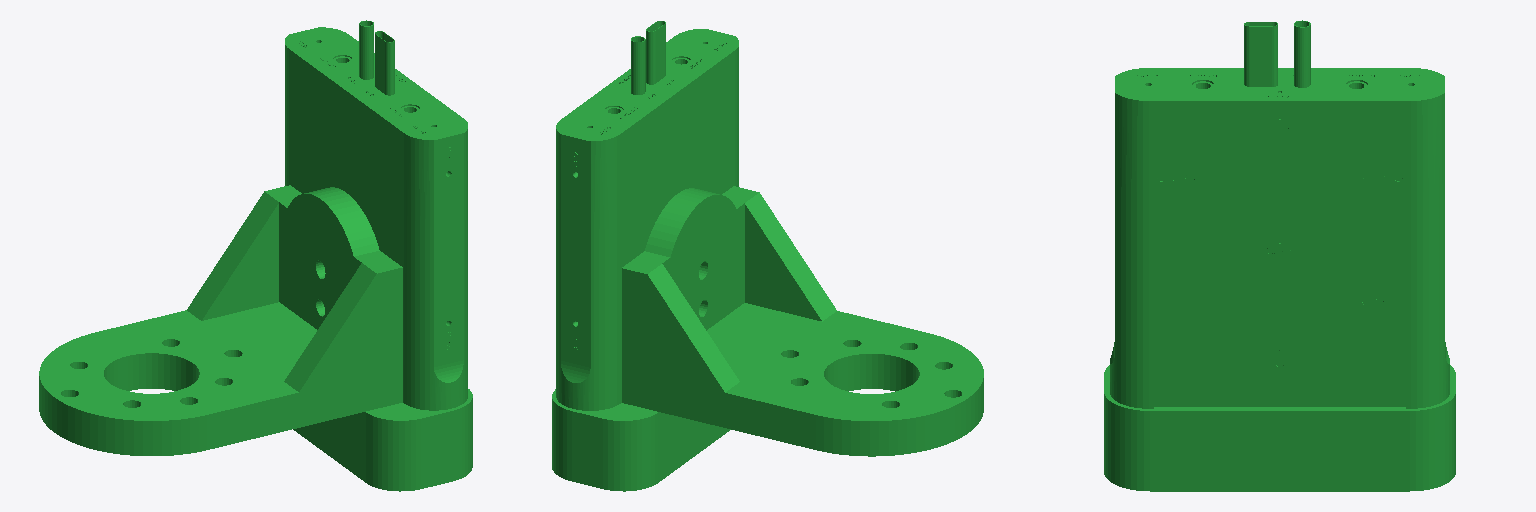
URDF robot description (xarm6):
<?xml version="1.0" encoding="utf-8"?>
<!-- =================================================================================== -->
<!-- |    This document was autogenerated by xacro from xarm6_robot.urdf.xacro         | -->
<!-- |    EDITING THIS FILE BY HAND IS NOT RECOMMENDED                                 | -->
<!-- =================================================================================== -->
<robot name="xarm6">
  <!--
  Author: [author] <[email redacted]>
  Contributers:
-->
  <gazebo>
    <plugin filename="libgazebo_ros_control.so" name="gazebo_ros_control">
      <robotNamespace>/xarm</robotNamespace>
      <!-- <controlPeriod>0.0001</controlPeriod> -->
      <robotSimType>gazebo_ros_control/DefaultRobotHWSim</robotSimType>
      <legacyModeNS>true</legacyModeNS>
      <!-- <preserveWorldVelocity>true</preserveWorldVelocity> -->
    </plugin>
  </gazebo>
  <link name="world"/>
  <joint name="world_joint" type="fixed">
    <parent link="world"/>
    <child link="link_base"/>
    <origin rpy="0 0 0" xyz="0 0 0"/>
  </joint>
  <material name="Black">
    <color rgba="0.0 0.0 0.0 1.0"/>
  </material>
  <material name="Red">
    <color rgba="0.85 0.19  0.21 1.0"/>
  </material>
  <material name="Blue">
    <color rgba="0.28 0.52 0.92 1.0"/>
  </material>
  <material name="Green">
    <color rgba="0.23 0.72 0.32 1.0"/>
  </material>
  <material name="Yellow">
    <color rgba="0.95 0.76 0.05 1.0"/>
  </material>
  <material name="White">
    <color rgba="1.0 1.0 1.0 1.0"/>
  </material>
  <material name="Silver">
    <color rgba="0.753 0.753 0.753 1.0"/>
  </material>
  <link name="link_base">
    <visual>
      <geometry>
        <mesh filename="package://xarm_description/meshes/xarm6/visual/base.stl"/>
      </geometry>
      <origin rpy="0 0 0" xyz="0 0 0"/>
      <material name="White"/>
    </visual>
    <collision>
      <geometry>
        <mesh filename="package://xarm_description/meshes/xarm6/collision/base_vhacd.obj"/>
      </geometry>
      <origin rpy="0 0 0" xyz="0 0 0"/>
    </collision>
    <inertial>
      <origin rpy="0 0 0" xyz="0.0 0.0 0.09103"/>
      <mass value="2.7"/>
      <inertia ixx="0.00494875" ixy="-3.5E-06" ixz="1.25E-05" iyy="0.00494174" iyz="1.67E-06" izz="0.002219"/>
    </inertial>
  </link>
  <link name="link1">
    <visual>
      <geometry>
        <mesh filename="package://xarm_description/meshes/xarm6/visual/link1.stl"/>
      </geometry>
      <origin rpy="0 0 0" xyz="0 0 0"/>
      <material name="White"/>
    </visual>
    <collision>
      <geometry>
        <mesh filename="package://xarm_description/meshes/xarm6/collision/link1_vhacd.obj"/>
      </geometry>
      <origin rpy="0 0 0" xyz="0 0 0"/>
    </collision>
    <inertial>
      <origin rpy="0 0 0" xyz="-0.002 0.02692 -0.01332"/>
      <mass value="2.16"/>
      <inertia ixx="0.00539427" ixy="1.095E-05" ixz="1.635E-06" iyy="0.0048979" iyz="0.000793" izz="0.00311573"/>
    </inertial>
  </link>
  <joint name="joint1" type="revolute">
    <parent link="link_base"/>
    <child link="link1"/>
    <origin rpy="0 0 0" xyz="0 0 0.267"/>
    <axis xyz="0 0 1"/>
    <limit effort="50.0" lower="-6.28318530718" upper="6.28318530718" velocity="3.14"/>
    <dynamics damping="1.0" friction="1.0"/>
  </joint>
  <link name="link2">
    <visual>
      <geometry>
        <mesh filename="package://xarm_description/meshes/xarm6/visual/link2.stl"/>
      </geometry>
      <origin rpy="0 0 0" xyz="0 0 0"/>
      <material name="White"/>
    </visual>
    <collision>
      <geometry>
        <mesh filename="package://xarm_description/meshes/xarm6/collision/link2_vhacd.obj"/>
      </geometry>
      <origin rpy="0 0 0" xyz="0 0 0"/>
    </collision>
    <inertial>
      <origin rpy="0 0 0" xyz="0.03531 -0.21398 0.03386"/>
      <mass value="1.71"/>
      <inertia ixx="0.0248674" ixy="-0.00430651" ixz="-0.00067797" iyy="0.00485548" iyz="0.00457245" izz="0.02387827"/>
    </inertial>
  </link>
  <joint name="joint2" type="revolute">
    <parent link="link1"/>
    <child link="link2"/>
    <origin rpy="-1.5708 0 0" xyz="0 0 0"/>
    <axis xyz="0 0 1"/>
    <limit effort="50.0" lower="-2.059" upper="2.0944" velocity="3.14"/>
    <dynamics damping="1.0" friction="1.0"/>
  </joint>
  <link name="link3">
    <visual>
      <geometry>
        <mesh filename="package://xarm_description/meshes/xarm6/visual/link3.stl"/>
      </geometry>
      <origin rpy="0 0 0" xyz="0 0 0"/>
      <material name="White"/>
    </visual>
    <collision>
      <geometry>
        <mesh filename="package://xarm_description/meshes/xarm6/collision/link3_vhacd.obj"/>
      </geometry>
      <origin rpy="0 0 0" xyz="0 0 0"/>
    </collision>
    <inertial>
      <origin rpy="0 0 0" xyz="0.06781 0.10749 0.01457"/>
      <mass value="1.384"/>
      <inertia ixx="0.0053694" ixy="0.0014185" ixz="-0.00092094" iyy="0.0032423" iyz="-0.00169178" izz="0.00501731"/>
    </inertial>
  </link>
  <joint name="joint3" type="revolute">
    <parent link="link2"/>
    <child link="link3"/>
    <origin rpy="0 0 0" xyz="0.0535 -0.2845 0"/>
    <axis xyz="0 0 1"/>
    <limit effort="32.0" lower="-3.927" upper="0.19198" velocity="3.14"/>
    <dynamics damping="1.0" friction="1.0"/>
  </joint>
  <link name="link4">
    <visual>
      <geometry>
        <mesh filename="package://xarm_description/meshes/xarm6/visual/link4.stl"/>
      </geometry>
      <origin rpy="0 0 0" xyz="0 0 0"/>
      <material name="White"/>
    </visual>
    <collision>
      <geometry>
        <mesh filename="package://xarm_description/meshes/xarm6/collision/link4_vhacd.obj"/>
      </geometry>
      <origin rpy="0 0 0" xyz="0 0 0"/>
    </collision>
    <inertial>
      <origin rpy="0 0 0" xyz="-0.00021 0.02578 -0.02538"/>
      <mass value="1.115"/>
      <inertia ixx="0.00439263" ixy="5.028E-05" ixz="1.374E-05" iyy="0.0040077" iyz="0.00045338" izz="0.00110321"/>
    </inertial>
  </link>
  <joint name="joint4" type="revolute">
    <parent link="link3"/>
    <child link="link4"/>
    <origin rpy="-1.5708 0 0" xyz="0.0775 0.3425 0"/>
    <axis xyz="0 0 1"/>
    <limit effort="32.0" lower="-6.28318530718" upper="6.28318530718" velocity="3.14"/>
    <dynamics damping="1.0" friction="1.0"/>
  </joint>
  <link name="link5">
    <visual>
      <geometry>
        <mesh filename="package://xarm_description/meshes/xarm6/visual/link5.stl"/>
      </geometry>
      <origin rpy="0 0 0" xyz="0 0 0"/>
      <material name="White"/>
    </visual>
    <collision>
      <geometry>
        <mesh filename="package://xarm_description/meshes/xarm6/collision/link5_vhacd.obj"/>
      </geometry>
      <origin rpy="0 0 0" xyz="0 0 0"/>
    </collision>
    <inertial>
      <origin rpy="0 0 0" xyz="0.05428 0.01781 0.00543"/>
      <mass value="1.275"/>
      <inertia ixx="0.001202758" ixy="0.000492428" ixz="-0.00039147" iyy="0.0022876" iyz="-1.235E-04" izz="0.0026866"/>
    </inertial>
  </link>
  <joint name="joint5" type="revolute">
    <parent link="link4"/>
    <child link="link5"/>
    <origin rpy="1.5708 0 0" xyz="0 0 0"/>
    <axis xyz="0 0 1"/>
    <limit effort="32.0" lower="-1.69297" upper="3.14159265359" velocity="3.14"/>
    <dynamics damping="1.0" friction="1.0"/>
  </joint>
  <link name="link6">
    <visual>
      <geometry>
        <mesh filename="package://xarm_description/meshes/xarm6/visual/link6.stl"/>
      </geometry>
      <origin rpy="0 0 0" xyz="0 0 0"/>
      <material name="Silver"/>
    </visual>
    <collision>
      <geometry>
        <mesh filename="package://xarm_description/meshes/xarm6/collision/link6_vhacd.obj"/>
      </geometry>
      <origin rpy="0 0 0" xyz="0 0 0"/>
    </collision>
    <inertial>
      <origin rpy="0 0 0" xyz="0 0.00064 -0.00952"/>
      <mass value="0.1096"/>
      <inertia ixx="4.5293E-05" ixy="0" ixz="0" iyy="4.8111E-05" iyz="0" izz="7.9715E-05"/>
    </inertial>
  </link>
  <joint name="joint6" type="revolute">
    <parent link="link5"/>
    <child link="link6"/>
    <origin rpy="-1.5708 0 0" xyz="0.076 0.097 0"/>
    <axis xyz="0 0 1"/>
    <limit effort="20.0" lower="-6.28318530718" upper="6.28318530718" velocity="3.14"/>
    <dynamics damping="1.0" friction="1.0"/>
  </joint>
  <transmission name="tran1">
    <type>transmission_interface/SimpleTransmission</type>
    <joint name="joint1">
      <hardwareInterface>hardware_interface/PositionJointInterface</hardwareInterface>
    </joint>
    <actuator name="motor1">
      <hardwareInterface>hardware_interface/PositionJointInterface</hardwareInterface>
      <mechanicalReduction>100</mechanicalReduction>
    </actuator>
  </transmission>
  <transmission name="tran2">
    <type>transmission_interface/SimpleTransmission</type>
    <joint name="joint2">
      <hardwareInterface>hardware_interface/PositionJointInterface</hardwareInterface>
    </joint>
    <actuator name="motor2">
      <hardwareInterface>hardware_interface/PositionJointInterface</hardwareInterface>
      <mechanicalReduction>reduction</mechanicalReduction>
    </actuator>
  </transmission>
  <transmission name="tran3">
    <type>transmission_interface/SimpleTransmission</type>
    <joint name="joint3">
      <hardwareInterface>hardware_interface/PositionJointInterface</hardwareInterface>
    </joint>
    <actuator name="motor3">
      <hardwareInterface>hardware_interface/PositionJointInterface</hardwareInterface>
      <mechanicalReduction>reduction</mechanicalReduction>
    </actuator>
  </transmission>
  <transmission name="tran4">
    <type>transmission_interface/SimpleTransmission</type>
    <joint name="joint4">
      <hardwareInterface>hardware_interface/PositionJointInterface</hardwareInterface>
    </joint>
    <actuator name="motor3">
      <hardwareInterface>hardware_interface/PositionJointInterface</hardwareInterface>
      <mechanicalReduction>reduction</mechanicalReduction>
    </actuator>
  </transmission>
  <transmission name="tran5">
    <type>transmission_interface/SimpleTransmission</type>
    <joint name="joint5">
      <hardwareInterface>hardware_interface/PositionJointInterface</hardwareInterface>
    </joint>
    <actuator name="motor5">
      <hardwareInterface>hardware_interface/PositionJointInterface</hardwareInterface>
      <mechanicalReduction>reduction</mechanicalReduction>
    </actuator>
  </transmission>
  <transmission name="tran6">
    <type>transmission_interface/SimpleTransmission</type>
    <joint name="joint6">
      <hardwareInterface>hardware_interface/PositionJointInterface</hardwareInterface>
    </joint>
    <actuator name="motor6">
      <hardwareInterface>hardware_interface/PositionJointInterface</hardwareInterface>
      <mechanicalReduction>reduction</mechanicalReduction>
    </actuator>
  </transmission>
  <gazebo reference="link_base">
    <selfCollide>true</selfCollide>
  </gazebo>
  <gazebo reference="link1">
    <selfCollide>true</selfCollide>
  </gazebo>
  <gazebo reference="link2">
    <selfCollide>true</selfCollide>
  </gazebo>
  <gazebo reference="link3">
    <selfCollide>true</selfCollide>
  </gazebo>
  <gazebo reference="link4">
    <selfCollide>true</selfCollide>
  </gazebo>
  <gazebo reference="link5">
    <selfCollide>true</selfCollide>
  </gazebo>
  <gazebo reference="link6">
    <selfCollide>true</selfCollide>
  </gazebo>
  <joint name="kinect_fix" type="fixed">
    <parent link="link6"/>
    <child link="kinect_mount"/>
    <origin rpy="0 0 0" xyz="0 0 0"/>
  </joint>
  <link name="kinect_mount">
    <inertial>
      <mass value="0.52"/>
      <origin rpy="0 0 0" xyz="0 0 -0.03"/>
      <!-- this is inertia of a cube with a 5cm side length and 500g -->
      <inertia ixx="0.00020833" ixy="0" ixz="0" iyy="0.00020833" iyz="0" izz="0.00020833"/>
    </inertial>
    <visual>
      <origin rpy="0 0 -1.5708" xyz="0.08 0 0.013"/>
      <geometry>
        <mesh filename="package://end_effector/end_effector.stl"/>
      </geometry>
      <material name="Green">
    	<color rgba="0.23 0.72 0.32 1.0"/>
      </material>
    </visual>
    <collision>
      <origin rpy="0 0 -1.5708" xyz="0.08 0 0.013"/>
      <geometry>
        <mesh filename="package://end_effector/end_effector.stl"/>
      </geometry>
    </collision>
  </link>
  <joint name="gripper_fix" type="fixed">
    <parent link="link6"/>
    <child link="xarm_gripper_base_link"/>
    <origin rpy ="0 0 0" xyz="0 0 0.013"/>
  </joint>
  <link name="xarm_gripper_base_link">
    <inertial>
      <origin rpy="0 0 0" xyz="-0.00065489 -0.0018497 0.048028"/>
      <mass value="0.54156"/>
      <inertia ixx="0.00047106" ixy="3.9292E-07" ixz="2.6537E-06" iyy="0.00033072" iyz="-1.0975E-05" izz="0.00025642"/>
    </inertial>
    <visual>
      <origin rpy="0 0 0" xyz="0 0 0"/>
      <geometry>
        <mesh filename="package://xarm_gripper/meshes/base_link.STL"/>
      </geometry>
      <!-- <material
        name="">
        <color
          rgba="0.89804 0.91765 0.92941 1" />
      </material> -->
      <material name="White">
        <color rgba="1.0 1.0 1.0 1.0"/>
      </material>
    </visual>
    <collision>
      <origin rpy="0 0 0" xyz="0 0 0"/>
      <geometry>
        <mesh filename="package://xarm_gripper/meshes/base_link.STL"/>
      </geometry>
    </collision>
  </link>
  <link name="left_outer_knuckle">
    <inertial>
      <origin rpy="0 0 0" xyz="2.9948E-14 0.021559 0.015181"/>
      <mass value="0.033618"/>
      <inertia ixx="1.9111E-05" ixy="-1.8803E-17" ixz="-1.1002E-17" iyy="6.6256E-06" iyz="-7.3008E-06" izz="1.3185E-05"/>
    </inertial>
    <visual>
      <origin rpy="0 0 0" xyz="0 0 0"/>
      <geometry>
        <mesh filename="package://xarm_gripper/meshes/left_outer_knuckle.STL"/>
      </geometry>
      <material name="Silver">
        <color rgba="0.753 0.753 0.753 1.0"/>
      </material>
    </visual>
    <collision>
      <origin rpy="0 0 0" xyz="0 0 0"/>
      <geometry>
        <mesh filename="package://xarm_gripper/meshes/left_outer_knuckle.STL"/>
      </geometry>
    </collision>
  </link>
  <joint name="drive_joint" type="revolute">
    <origin rpy="0 0 0" xyz="0 0.035 0.059098"/>
    <parent link="xarm_gripper_base_link"/>
    <child link="left_outer_knuckle"/>
    <axis xyz="1 0 0"/>
    <limit effort="50" lower="0" upper="0.85" velocity="2"/>
  </joint>
  <link name="left_finger">
    <inertial>
      <origin rpy="0 0 0" xyz="-2.4536E-14 -0.016413 0.029258"/>
      <mass value="0.048304"/>
      <inertia ixx="1.7493E-05" ixy="-4.2156E-19" ixz="6.9164E-18" iyy="1.7225E-05" iyz="4.6433E-06" izz="5.1466E-06"/>
    </inertial>
    <visual>
      <origin rpy="0 0 0" xyz="0 0 0"/>
      <geometry>
        <mesh filename="package://xarm_gripper/meshes/left_finger.STL"/>
      </geometry>
      <material name="Silver">
        <color rgba="0.753 0.753 0.753 1.0"/>
      </material>
    </visual>
    <collision>
      <origin rpy="0 0 0" xyz="0 0 0"/>
      <geometry>
        <mesh filename="package://xarm_gripper/meshes/left_finger.STL"/>
      </geometry>
    </collision>
  </link>
  <joint name="left_finger_joint" type="revolute">
    <origin rpy="0 0 0" xyz="0 0.035465 0.042039"/>
    <parent link="left_outer_knuckle"/>
    <child link="left_finger"/>
    <axis xyz="-1 0 0"/>
    <limit effort="50" lower="0" upper="0.85" velocity="2"/>
    <mimic joint="drive_joint" multiplier="1" offset="0"/>
  </joint>
  <link name="left_inner_knuckle">
    <inertial>
      <origin rpy="0 0 0" xyz="1.86600784687907E-06 0.0220467847633621 0.0261334672830885"/>
      <mass value="0.0230125781256706"/>
      <inertia ixx="6.09490024271906E-06" ixy="6.06651326160071E-11" ixz="7.19102670500635E-11" iyy="6.01955084375188E-06" iyz="-2.75316812991721E-06" izz="5.07862004479903E-06"/>
    </inertial>
    <visual>
      <origin rpy="0 0 0" xyz="0 0 0"/>
      <geometry>
        <mesh filename="package://xarm_gripper/meshes/left_inner_knuckle.STL"/>
      </geometry>
      <material name="Silver">
        <color rgba="0.753 0.753 0.753 1.0"/>
      </material>
    </visual>
    <collision>
      <origin rpy="0 0 0" xyz="0 0 0"/>
      <geometry>
        <mesh filename="package://xarm_gripper/meshes/left_inner_knuckle.STL"/>
      </geometry>
    </collision>
  </link>
  <joint name="left_inner_knuckle_joint" type="revolute">
    <origin rpy="0 0 0" xyz="0 0.02 0.074098"/>
    <parent link="xarm_gripper_base_link"/>
    <child link="left_inner_knuckle"/>
    <axis xyz="1 0 0"/>
    <limit effort="50" lower="0" upper="0.85" velocity="2"/>
    <mimic joint="drive_joint" multiplier="1" offset="0"/>
  </joint>
  <link name="right_outer_knuckle">
    <inertial>
      <origin rpy="0 0 0" xyz="-3.1669E-14 -0.021559 0.015181"/>
      <mass value="0.033618"/>
      <inertia ixx="1.9111E-05" ixy="-1.8789E-17" ixz="1.0986E-17" iyy="6.6256E-06" iyz="7.3008E-06" izz="1.3185E-05"/>
    </inertial>
    <visual>
      <origin rpy="0 0 0" xyz="0 0 0"/>
      <geometry>
        <mesh filename="package://xarm_gripper/meshes/right_outer_knuckle.STL"/>
      </geometry>
      <material name="Silver">
        <color rgba="0.753 0.753 0.753 1.0"/>
      </material>
    </visual>
    <collision>
      <origin rpy="0 0 0" xyz="0 0 0"/>
      <geometry>
        <mesh filename="package://xarm_gripper/meshes/right_outer_knuckle.STL"/>
      </geometry>
    </collision>
  </link>
  <joint name="right_outer_knuckle_joint" type="revolute">
    <origin rpy="0 0 0" xyz="0 -0.035 0.059098"/>
    <parent link="xarm_gripper_base_link"/>
    <child link="right_outer_knuckle"/>
    <axis xyz="-1 0 0"/>
    <limit effort="50" lower="0" upper="0.85" velocity="2"/>
    <mimic joint="drive_joint" multiplier="1" offset="0"/>
  </joint>
  <link name="right_finger">
    <inertial>
      <origin rpy="0 0 0" xyz="2.5618E-14 0.016413 0.029258"/>
      <mass value="0.048304"/>
      <inertia ixx="1.7493E-05" ixy="-5.0014E-19" ixz="-7.5079E-18" iyy="1.7225E-05" iyz="-4.6435E-06" izz="5.1466E-06"/>
    </inertial>
    <visual>
      <origin rpy="0 0 0" xyz="0 0 0"/>
      <geometry>
        <mesh filename="package://xarm_gripper/meshes/right_finger.STL"/>
      </geometry>
      <material name="Silver">
        <color rgba="0.753 0.753 0.753 1.0"/>
      </material>
    </visual>
    <collision>
      <origin rpy="0 0 0" xyz="0 0 0"/>
      <geometry>
        <mesh filename="package://xarm_gripper/meshes/right_finger.STL"/>
      </geometry>
    </collision>
  </link>
  <joint name="right_finger_joint" type="revolute">
    <origin rpy="0 0 0" xyz="0 -0.035465 0.042039"/>
    <parent link="right_outer_knuckle"/>
    <child link="right_finger"/>
    <axis xyz="1 0 0"/>
    <limit effort="50" lower="0" upper="0.85" velocity="2"/>
    <mimic joint="drive_joint" multiplier="1" offset="0"/>
  </joint>
  <link name="right_inner_knuckle">
    <inertial>
      <origin rpy="0 0 0" xyz="1.866E-06 -0.022047 0.026133"/>
      <mass value="0.023013"/>
      <inertia ixx="6.0949E-06" ixy="-6.0665E-11" ixz="7.191E-11" iyy="6.0197E-06" iyz="2.7531E-06" izz="5.0784E-06"/>
    </inertial>
    <visual>
      <origin rpy="0 0 0" xyz="0 0 0"/>
      <geometry>
        <mesh filename="package://xarm_gripper/meshes/right_inner_knuckle.STL"/>
      </geometry>
      <material name="Silver">
        <color rgba="0.753 0.753 0.753 1.0"/>
      </material>
    </visual>
    <collision>
      <origin rpy="0 0 0" xyz="0 0 0"/>
      <geometry>
        <mesh filename="package://xarm_gripper/meshes/right_inner_knuckle.STL"/>
      </geometry>
    </collision>
  </link>
  <joint name="right_inner_knuckle_joint" type="revolute">
    <origin rpy="0 0 0" xyz="0 -0.02 0.074098"/>
    <parent link="xarm_gripper_base_link"/>
    <child link="right_inner_knuckle"/>
    <axis xyz="-1 0 0"/>
    <limit effort="50" lower="0" upper="0.85" velocity="2"/>
    <mimic joint="drive_joint" multiplier="1" offset="0"/>
  </joint>
  <transmission name="drive_joint_trans">
    <type>transmission_interface/SimpleTransmission</type>
    <joint name="drive_joint">
      <hardwareInterface>hardware_interface/PositionJointInterface</hardwareInterface>
    </joint>
    <actuator name="drive_joint_motor">
      <hardwareInterface>hardware_interface/PositionJointInterface</hardwareInterface>
      <mechanicalReduction>1</mechanicalReduction>
    </actuator>
  </transmission>
  <gazebo reference="xarm_gripper_base_link">
    <selfCollide>true</selfCollide>
  </gazebo>
  <gazebo reference="left_outer_knuckle">
    <selfCollide>true</selfCollide>
  </gazebo>
  <gazebo reference="left_finger">
    <selfCollide>true</selfCollide>
  </gazebo>
  <gazebo reference="left_inner_knuckle">
    <selfCollide>true</selfCollide>
  </gazebo>
  <gazebo reference="right_outer_knuckle">
    <selfCollide>true</selfCollide>
  </gazebo>
  <gazebo reference="right_finger">
    <selfCollide>true</selfCollide>
  </gazebo>
  <gazebo reference="right_inner_knuckle">
    <selfCollide>true</selfCollide>
  </gazebo>
</robot>

--- Facts derived from the render (not from the file) ---
3 views of the same robot in one strip: view 1: azimuth 30°, elevation 25°; view 2: azimuth 150°, elevation 25°; view 3: azimuth 270°, elevation 25° (orthographic).
Model xarm6 with 16 links and 15 joints (12 revolute, 3 fixed), rooted at world, posed all joints at 0.
Links seen in each view (by area): view 1: kinect_mount; view 2: kinect_mount; view 3: kinect_mount.
Link boxes in pixels (x1=…): kinect_mount: x1=39, y1=20, x2=472, y2=491; kinect_mount: x1=552, y1=21, x2=983, y2=491; kinect_mount: x1=1104, y1=20, x2=1455, y2=491.
Size in the robot's own frame: 0.137 by 0.103 by 0.1449 metres.
Meshes: 15 distinct files referenced, 1 mesh visuals loaded (1 binary STL); not drawn: 14 (reference not matched to a file when rendering).